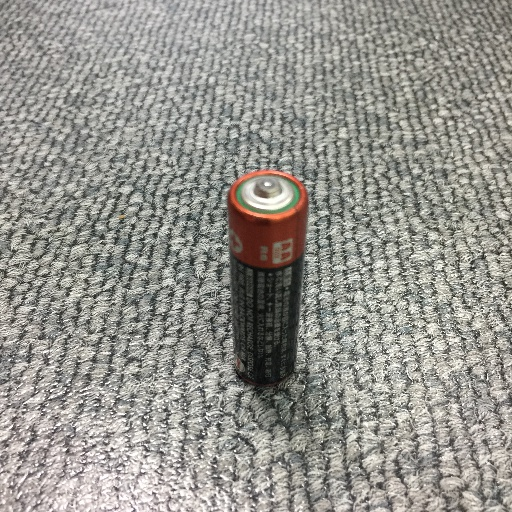Battery_0: (225, 164, 315, 399)
